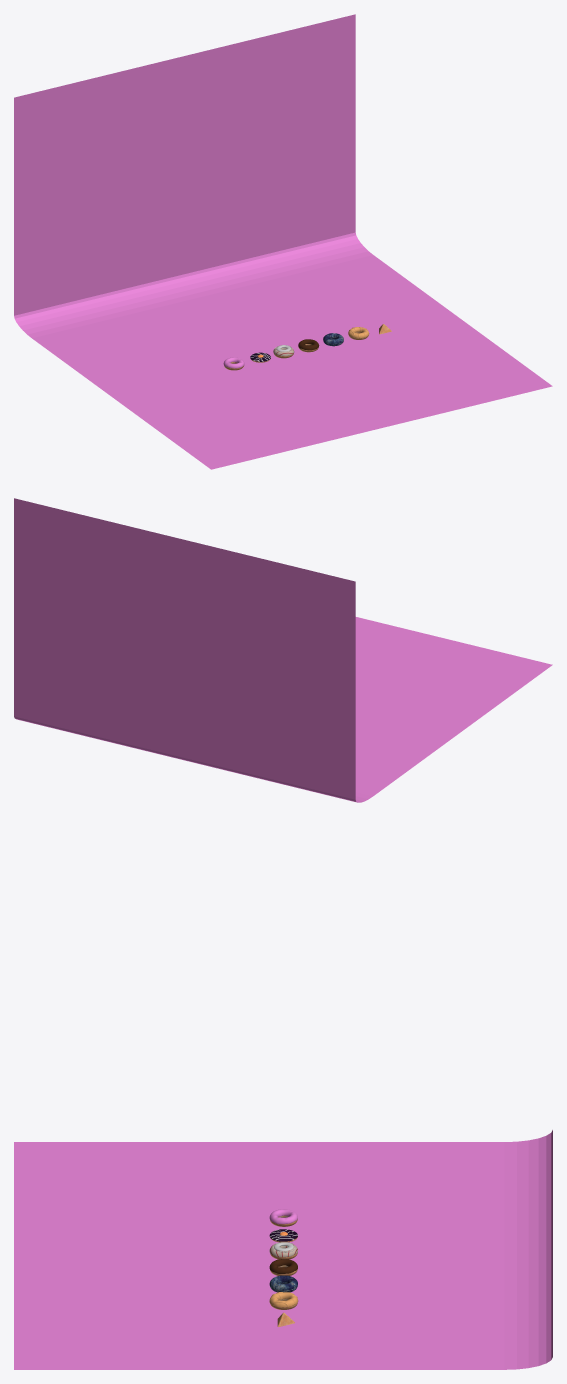
Rendered from dazzling donuts.gltf.
The picture shows the model from 3 angles, top to bottom: view 1: azimuth 30°, elevation 25°; view 2: azimuth 150°, elevation 25°; view 3: azimuth 270°, elevation 25°; orthographic projection. The views are drawn at different scales.
Parts seen in each view (by area): view 1: Plane; view 2: Plane; view 3: Plane.
Boxes of the visible parts, box(x1,y1,x2,y2) form: Plane: box(14, 14, 552, 469); Plane: box(14, 498, 552, 802); Plane: box(14, 1130, 552, 1369).
Bounding box in the file's own units: 34.56 × 22.19 × 34.56.
